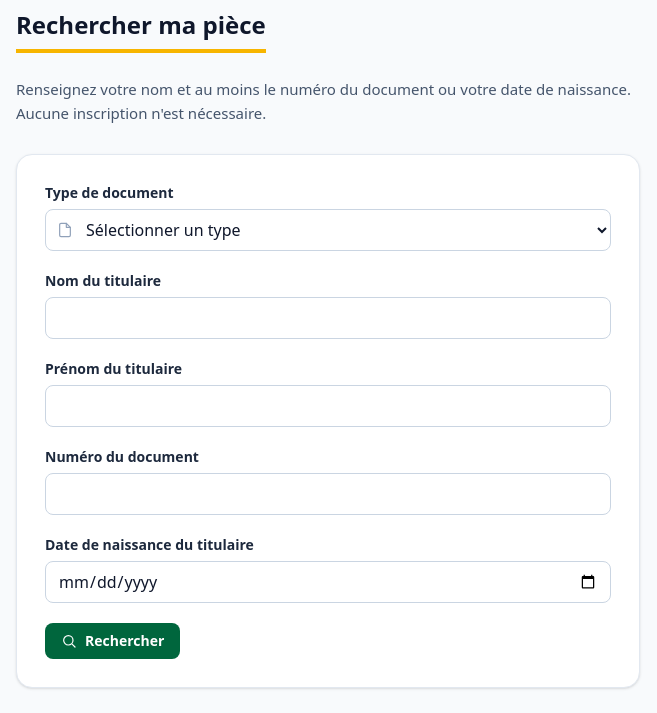
Test: RecherchePubliquePage › affiche le résultat sans donnée sensible quand la pièce est trouvée
Select "Carte Nationale d'Identité (CNI)" in the dropdown labelled "Type de document". click: x=328, y=230
box: [45,209,611,251]
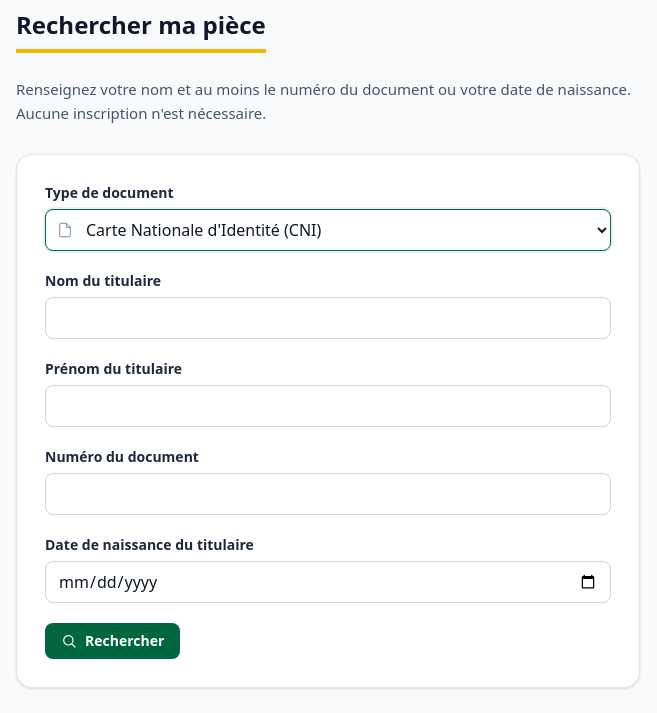
Type "Diop" into the field labelled "Nom du titulaire". click: x=328, y=318
box: [45,297,611,339]
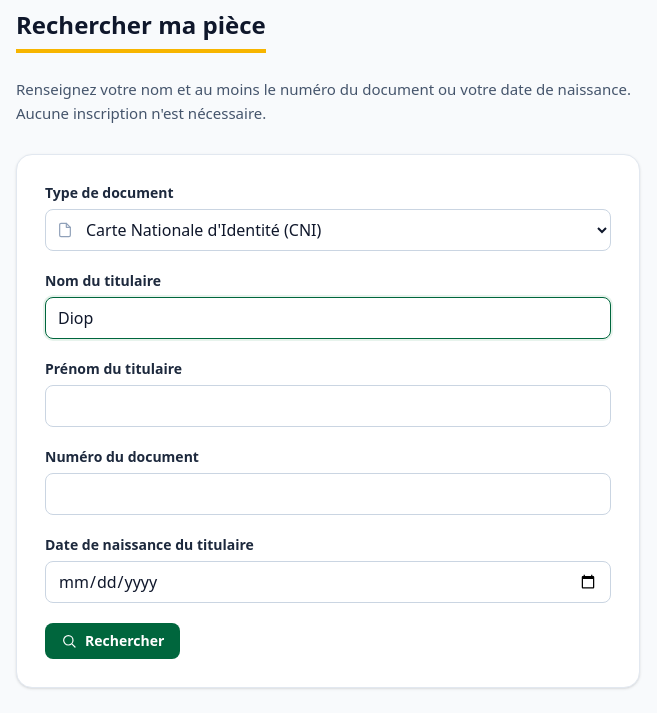
Type "1234567890" into the field labelled "Numéro du document". click: x=328, y=494
box: [45,473,611,515]
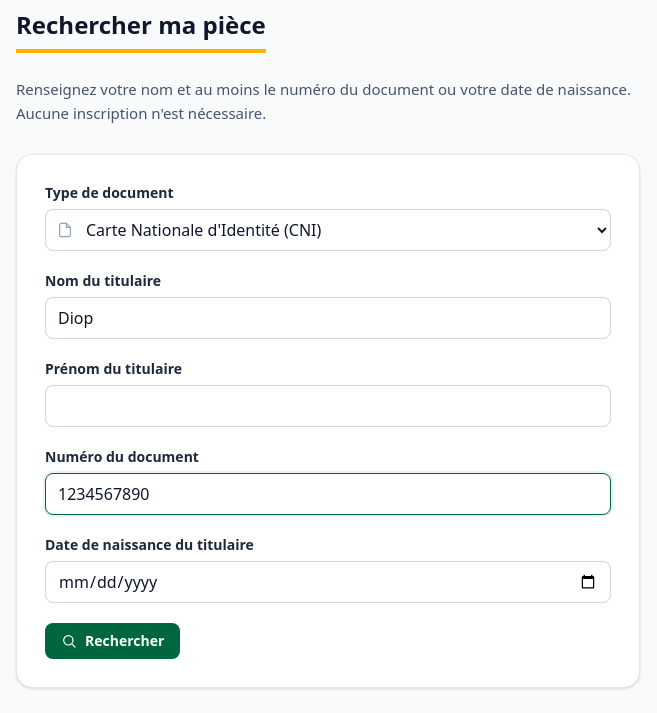
Click the button "Rechercher". click: x=113, y=641
box: [45,623,180,659]
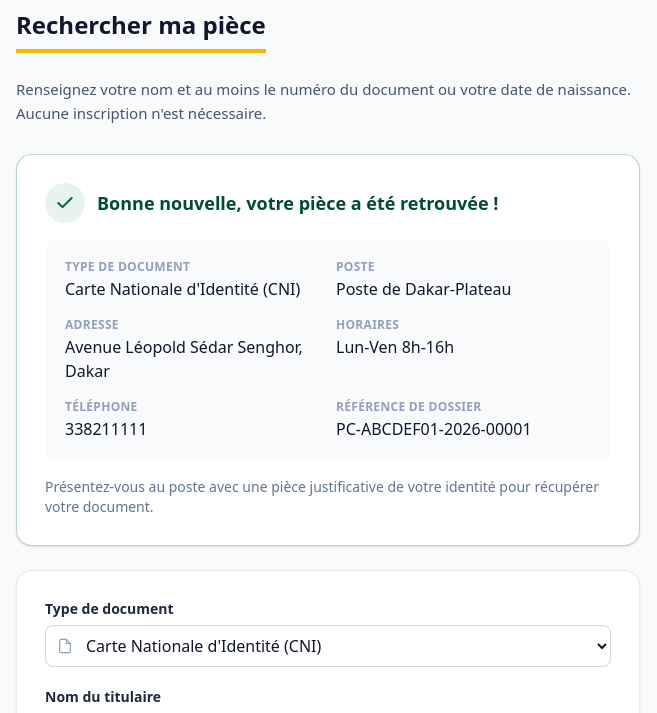
Expected: the element named "Résultat de la recherche" shows "Poste de Dakar-Plateau", [336,278,511,300]
Expected: the element named "Résultat de la recherche" shows "Avenue Léopold Sédar Senghor, Dakar", [65,336,303,382]
Expected: the element named "Résultat de la recherche" shows "Lun-Ven 8h-16h", [336,336,454,358]
